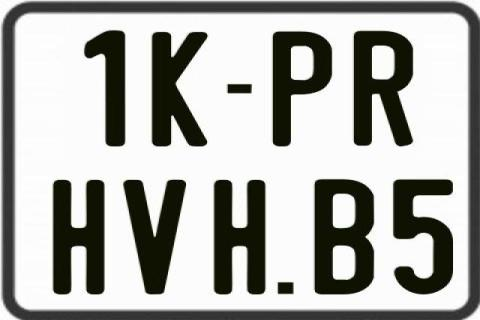0: (393, 178, 457, 298), (84, 31, 125, 147)
B: (314, 177, 378, 295)
H: (213, 180, 270, 299), (50, 177, 104, 297)
K: (150, 32, 210, 150)
P: (270, 30, 329, 146)
R: (353, 32, 415, 152)
V: (123, 180, 186, 298)
